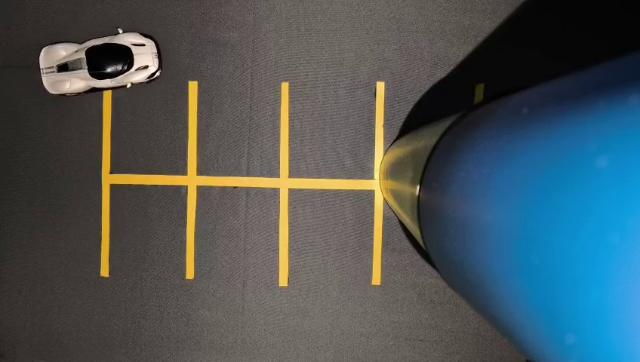toy_car: (30, 16, 197, 105)
